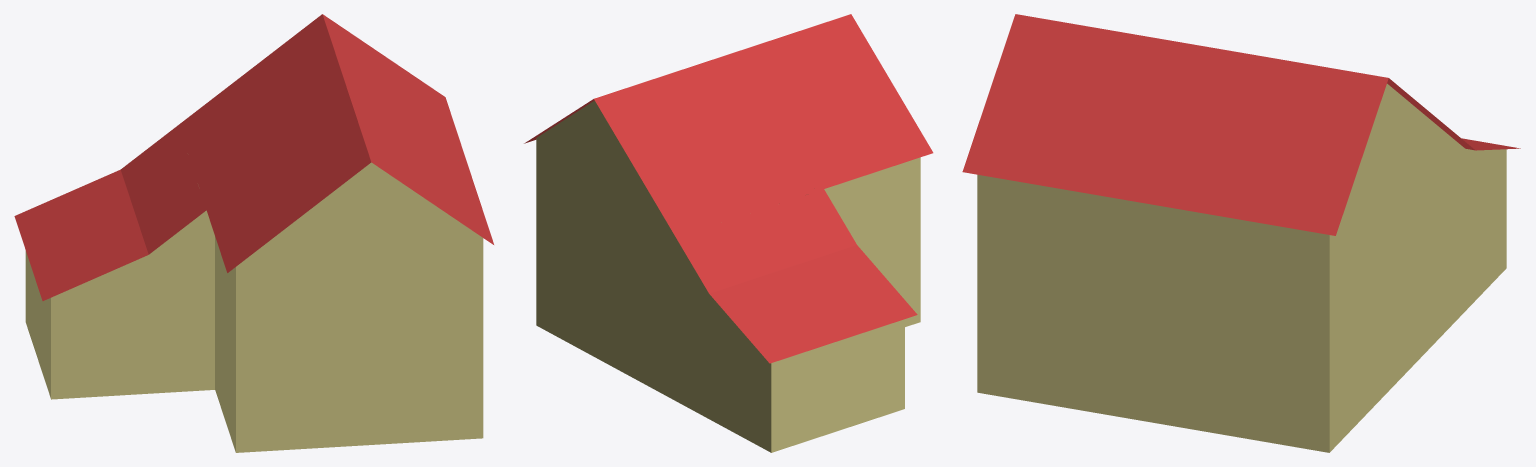
The picture shows the model from 3 angles, left to right: view 1: azimuth 30°, elevation 25°; view 2: azimuth 150°, elevation 25°; view 3: azimuth 270°, elevation 25°; orthographic projection. The views are drawn at different scales.
Size of the model in its own units: 23.93 by 24.54 by 15.78.
